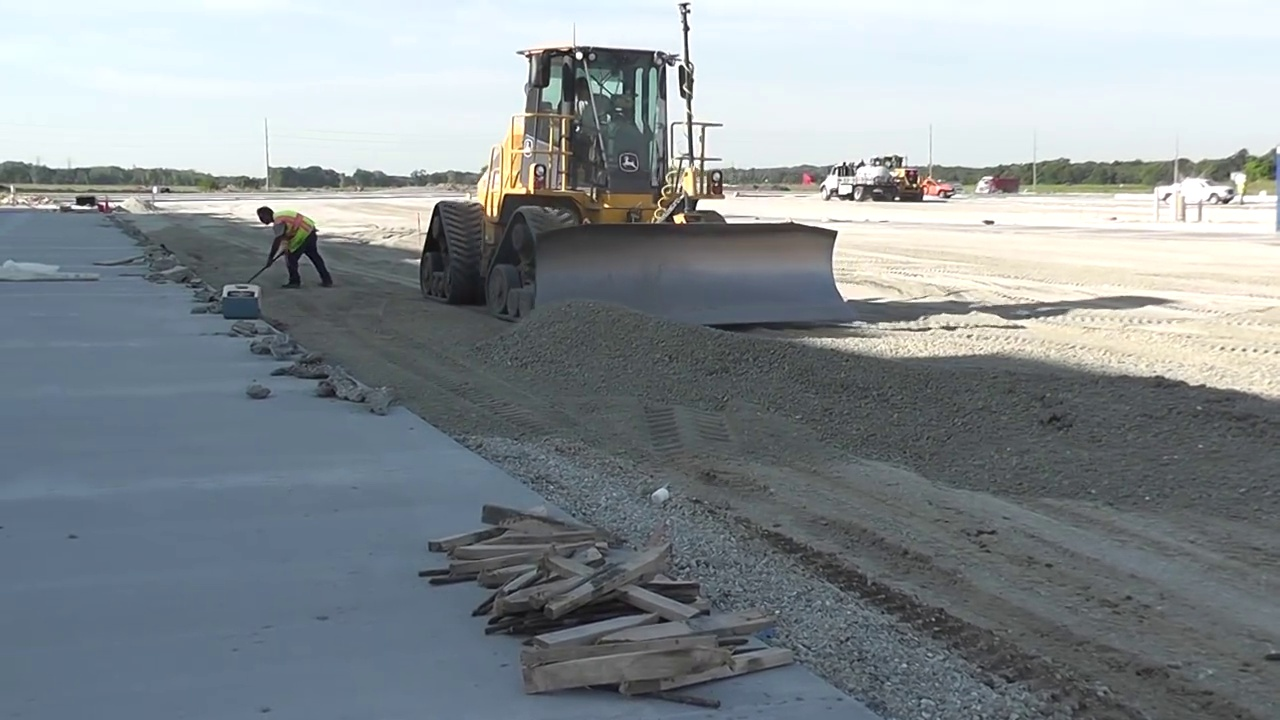bulldozer: (417, 43, 860, 339)
car: (1155, 175, 1237, 205)
person: (247, 208, 335, 290), (566, 75, 618, 159)
truck: (819, 153, 885, 205)
